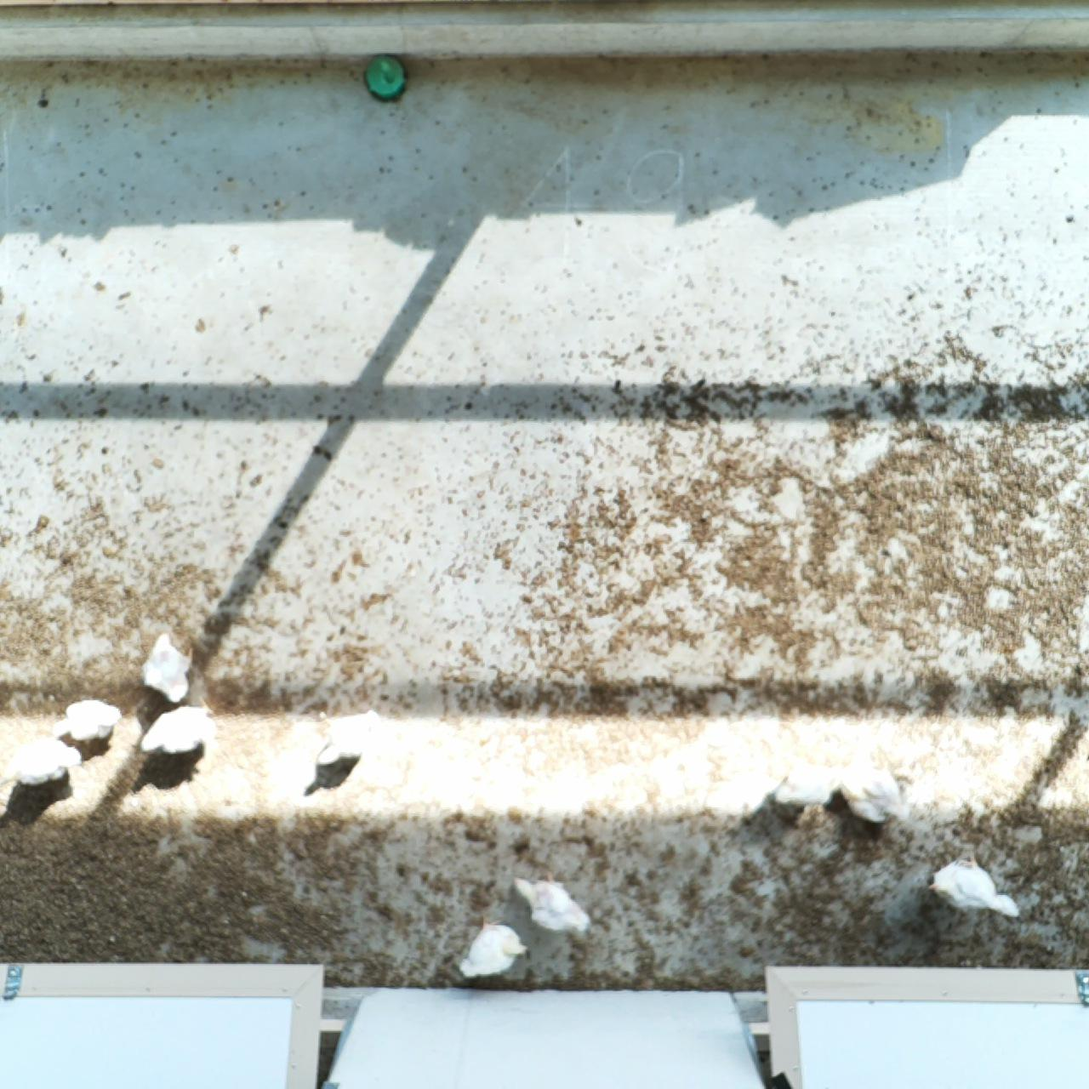chicken: (921, 851, 1025, 925), (508, 869, 596, 938), (835, 744, 907, 827), (453, 914, 533, 980), (0, 729, 85, 791), (312, 706, 392, 768), (139, 704, 220, 761), (141, 630, 196, 705), (770, 759, 841, 812), (50, 695, 124, 744)
